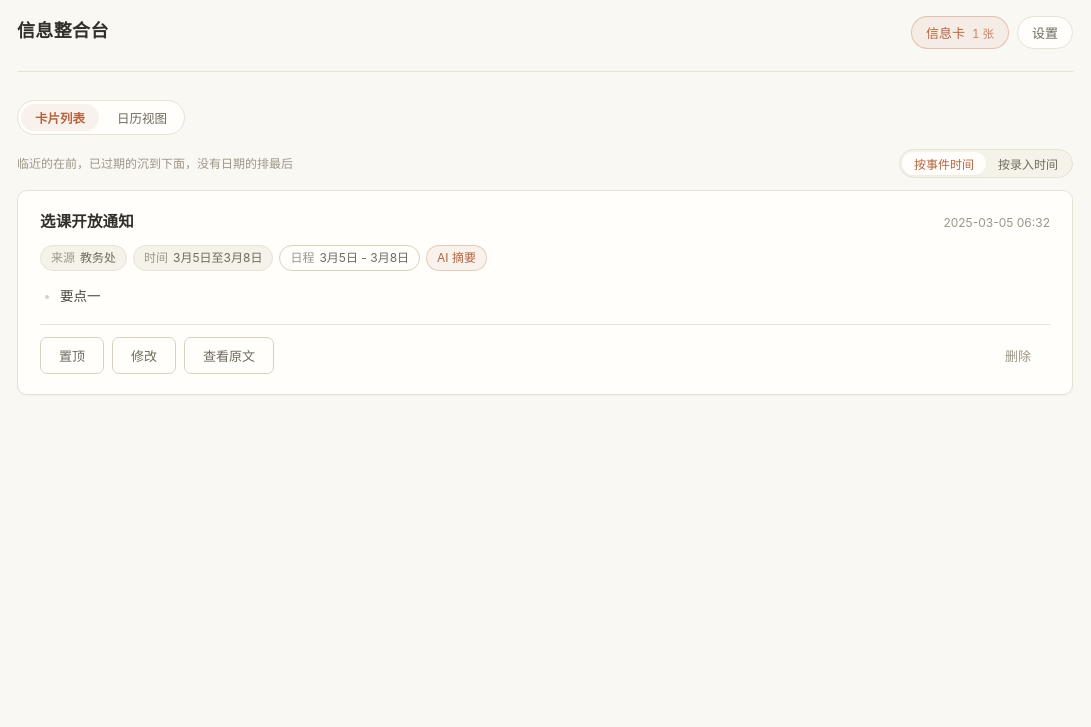
Test: 圆形日期与周排版 › 每个日期是一个圆
Click the tab "日历视图" at (142,118), box [103,104,181,131]
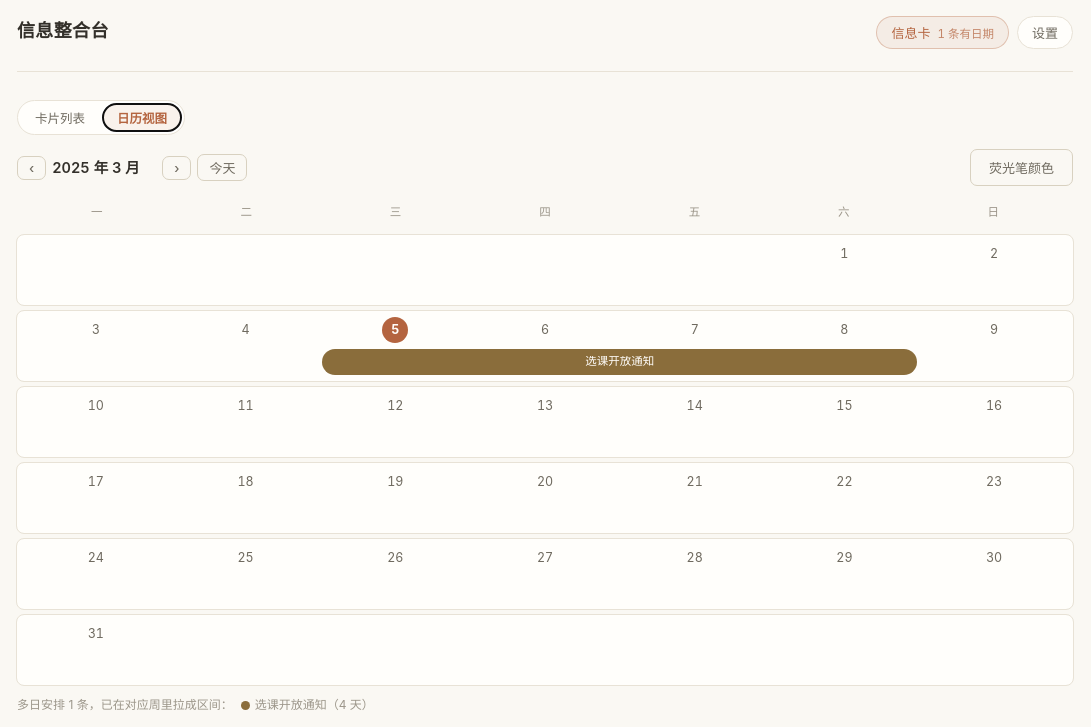
Expected: the text "2025 年 3 月" is shown, [52,158,140,176]
Expected: the number of buttons with test id "calendar-day" is 31
